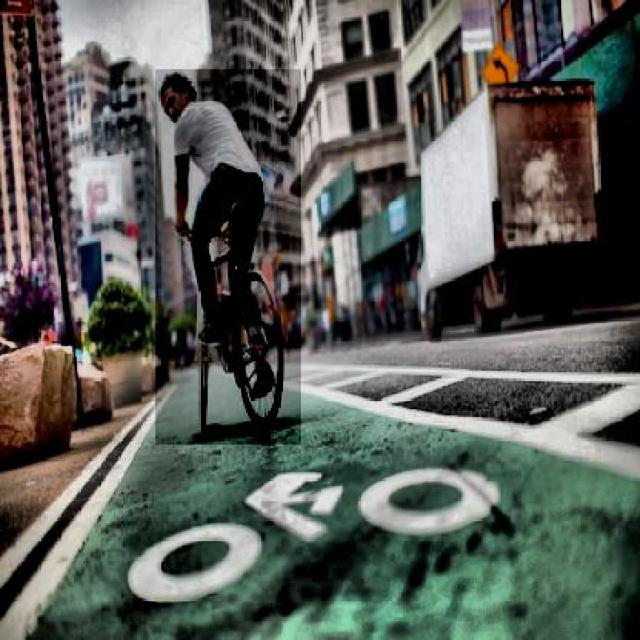bikerider: (157, 69, 301, 445)
